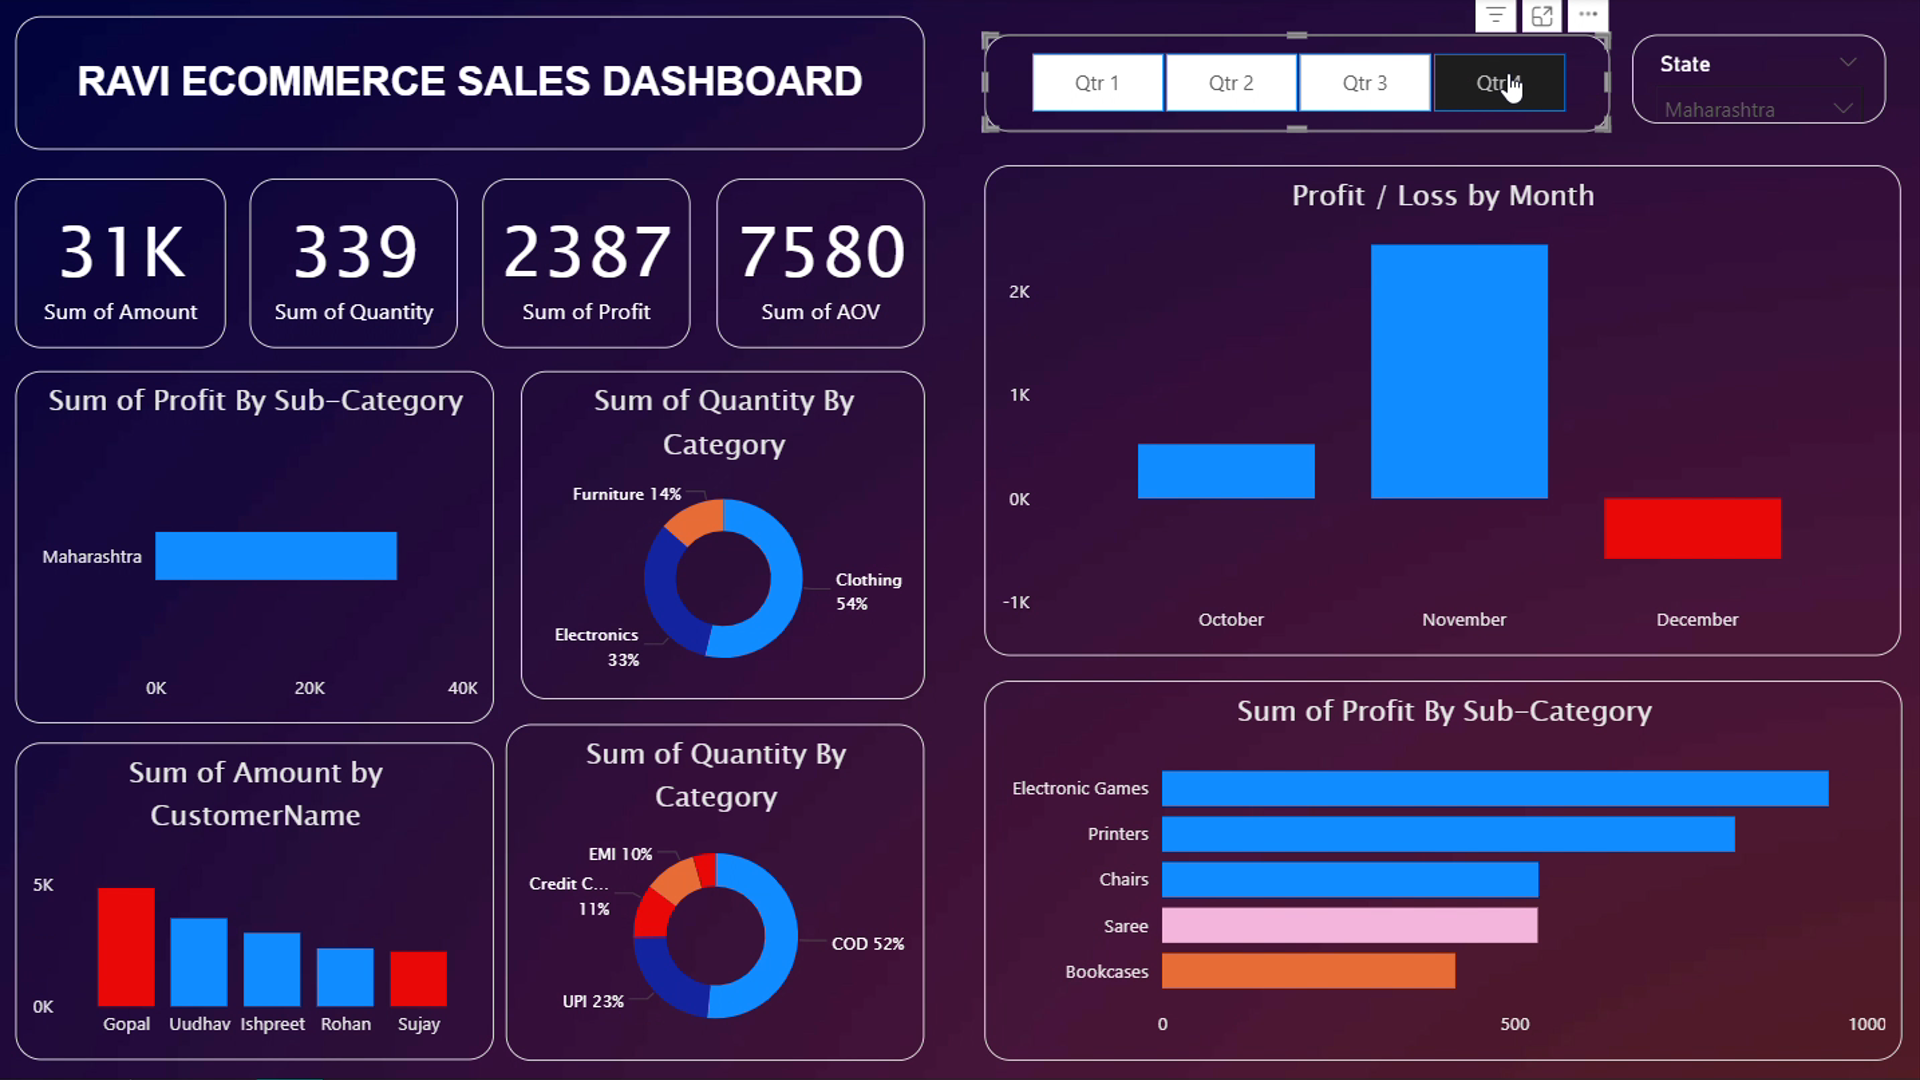

The page's visual inventory and layout, read from the dashboard file:
{"tool":"powerbi","page":{"name":"Page 1","canvas":[1280,720],"ordinal":0},"visuals":[{"type":"columnChart","title":" Profit / Loss by Month","fields":{"Category":["Orders.Order Date.Variation.Date Hierarchy.Month"],"Y":["Sum(Details.Profit)"]},"box":[655.9,111.1,609.3,326.6],"z":0},{"type":"barChart","title":"Sum of Profit By Sub-Category","fields":{"Y":["Sum(Details.Profit)"],"Category":["Details.Sub-Category"]},"box":[655.9,454.2,610.6,252.5],"z":1000},{"type":"donutChart","title":"Sum of Quantity By Category","fields":{"Y":["Sum(Details.Quantity)"],"Category":["Details.Category"]},"box":[347.2,248.4,269,218.2],"z":2000},{"type":"donutChart","title":"Sum of Quantity By Category","fields":{"Y":["Sum(Details.Quantity)"],"Category":["Details.PaymentMode"]},"box":[337.6,483,278.6,223.7],"z":3000},{"type":"card","title":"Sum of Quantity By Category","fields":{"Values":["Sum(Details.Amount)"]},"box":[11,120.8,140,112.5],"z":4000},{"type":"card","title":"Sum of Quantity By Category","fields":{"Values":["Sum(Details.Quantity)"]},"box":[167,120.8,138.6,112.5],"z":5000},{"type":"card","title":"Sum of Quantity By Category","fields":{"Values":["Sum(Details.Profit)"]},"box":[322,120.8,138.6,112.5],"z":6000},{"type":"card","title":"Sum of Quantity By Category","fields":{"Values":["Sum(Details.AOV)"]},"box":[477.5,120.8,138.6,112.5],"z":7000},{"type":"barChart","title":"Sum of Profit By Sub-Category","fields":{"Category":["Orders.State"],"Y":["Sum(Details.Amount)"]},"box":[11,248.4,318.4,234.6],"z":8000},{"type":"columnChart","fields":{"Category":["Orders.CustomerName"],"Y":["Sum(Details.Amount)"]},"box":[11,495.4,318.4,211.3],"z":9000},{"type":"textbox","box":[11,12.3,605.1,89.2],"z":10000},{"type":"slicer","fields":{"Values":["Orders.Order Date.Variation.Date Hierarchy.Quarter"]},"box":[655.9,24.7,415.8,64.5],"z":11000},{"type":"slicer","fields":{"Values":["Orders.State"]},"box":[1086.8,24.7,168.8,59],"z":12000}]}

Visuals, with their boxes on the page's 1280x720 design canvas (x1, y1, x2, y2). These are canvas units, not pixel positions in the 1920x1080 screenshot, which may show the page scaled, cropped or inside an application window:
" Profit / Loss by Month" columnChart: box(656, 111, 1265, 438)
"Sum of Profit By Sub-Category" barChart: box(656, 454, 1266, 707)
"Sum of Quantity By Category" donutChart: box(347, 248, 616, 467)
"Sum of Quantity By Category" donutChart: box(338, 483, 616, 707)
"Sum of Quantity By Category" card: box(11, 121, 151, 233)
"Sum of Quantity By Category" card: box(167, 121, 306, 233)
"Sum of Quantity By Category" card: box(322, 121, 461, 233)
"Sum of Quantity By Category" card: box(478, 121, 616, 233)
"Sum of Profit By Sub-Category" barChart: box(11, 248, 329, 483)
columnChart - Orders.CustomerName x Sum(Details.Amount): box(11, 495, 329, 707)
textbox: box(11, 12, 616, 102)
slicer - Orders.Order Date.Variation.Date Hierarchy.Quarter: box(656, 25, 1072, 89)
slicer - Orders.State: box(1087, 25, 1256, 84)
